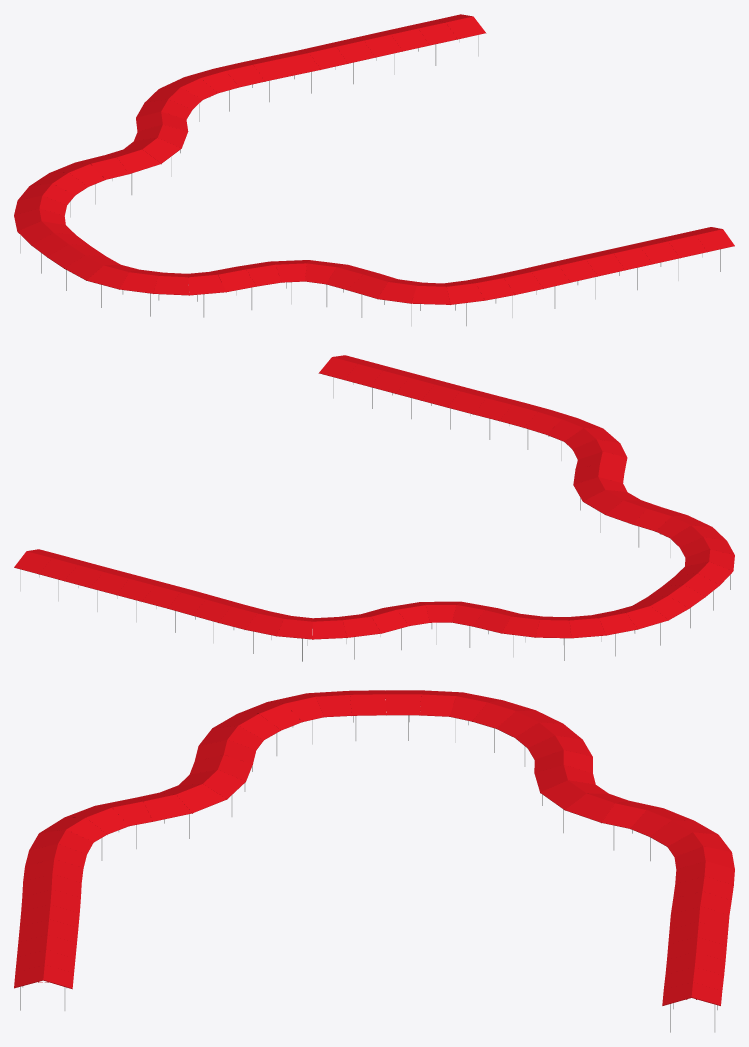
The model's file is curved roof.fbx.
3 renders of one model, top to bottom at view 1: azimuth 30°, elevation 25°; view 2: azimuth 150°, elevation 25°; view 3: azimuth 270°, elevation 25°, orthographic. The views are drawn at different scales.
Visible parts, largest first — view 1: Cube.106, Cylinder; view 2: Cube.106, Cylinder; view 3: Cube.106, Cylinder.
Boxes of the visible parts, x1=… form: Cube.106: x1=14, y1=14, x2=734, y2=304; Cylinder: x1=20, y1=35, x2=720, y2=326; Cube.106: x1=14, y1=355, x2=734, y2=639; Cylinder: x1=20, y1=377, x2=730, y2=661; Cube.106: x1=14, y1=690, x2=734, y2=1005; Cylinder: x1=20, y1=715, x2=717, y2=1032.
Size of the model in its own units: 15970 by 890 by 15431.
